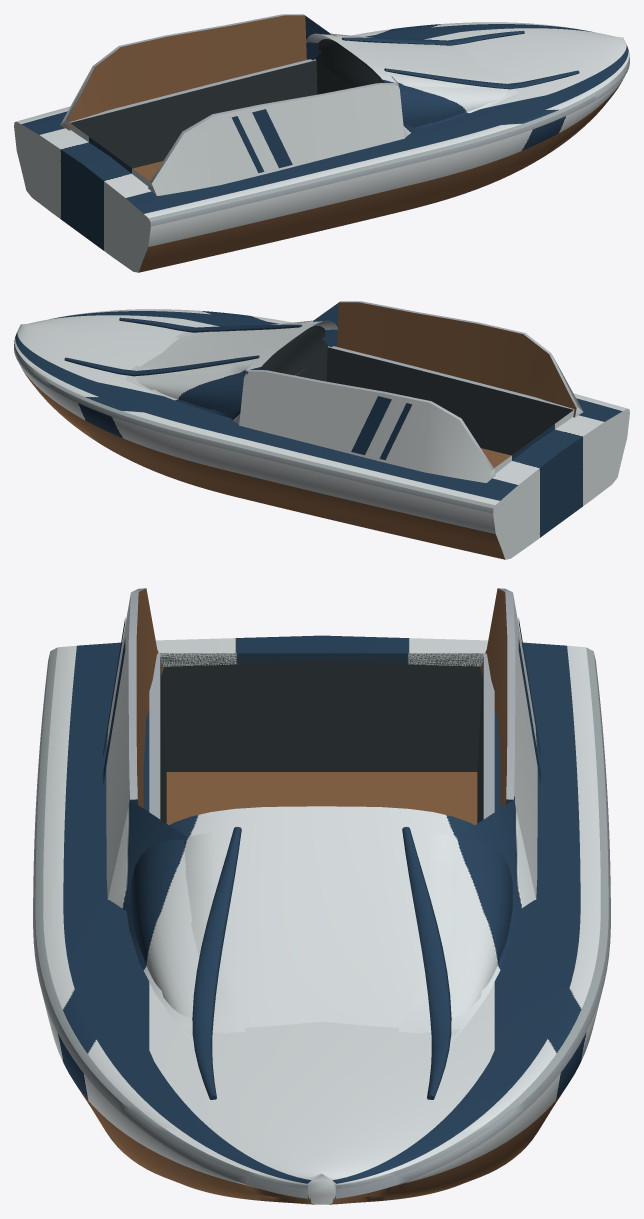
File: Hull_16_R_水銀・朱返し.glb
3 views of the same model, one above another, from view 1: azimuth 30°, elevation 25°; view 2: azimuth 150°, elevation 25°; view 3: azimuth 270°, elevation 25° (orthographic). The views are drawn at different scales.
Visible parts, largest first — view 1: Hull_16_R; view 2: Hull_16_R; view 3: Hull_16_R.
Part boxes in pixels (x1,y1,x2,y2): Hull_16_R: [14, 14, 629, 272]; Hull_16_R: [14, 301, 629, 559]; Hull_16_R: [33, 588, 610, 1204].
Size of the model in its own units: 2.9 by 0.6856 by 1.34.
Materials: 4 (4 with a texture image).
